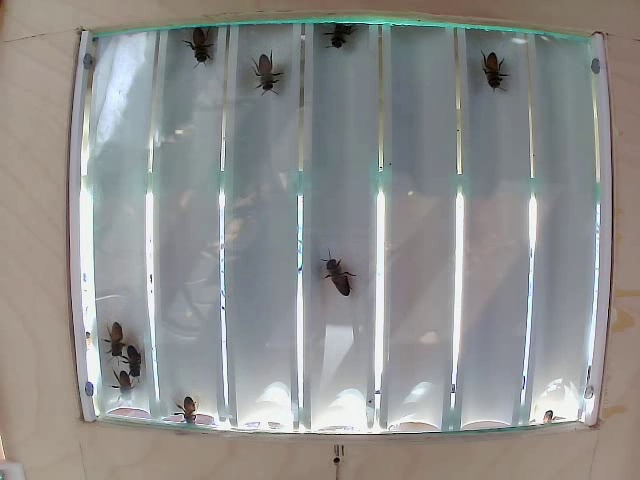bee: (312, 250, 357, 298), (248, 47, 285, 95), (192, 28, 226, 76), (166, 388, 196, 420), (476, 52, 498, 95), (326, 21, 350, 59), (96, 320, 121, 352), (123, 345, 153, 371), (112, 374, 135, 406)
